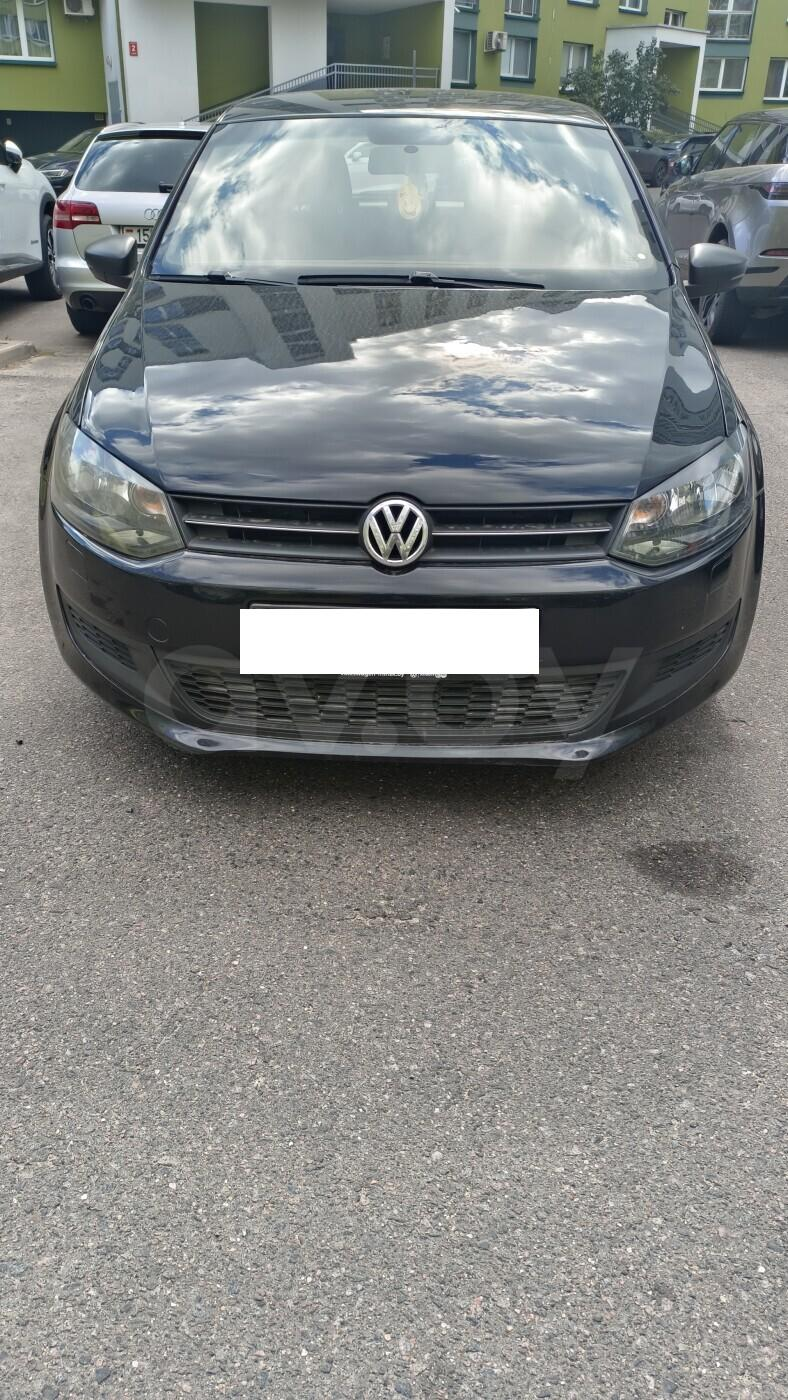Polo_2009-2015: (0, 92, 787, 824)
